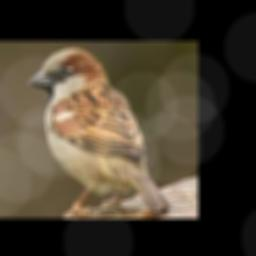Sparrow: (27, 48, 172, 216)
